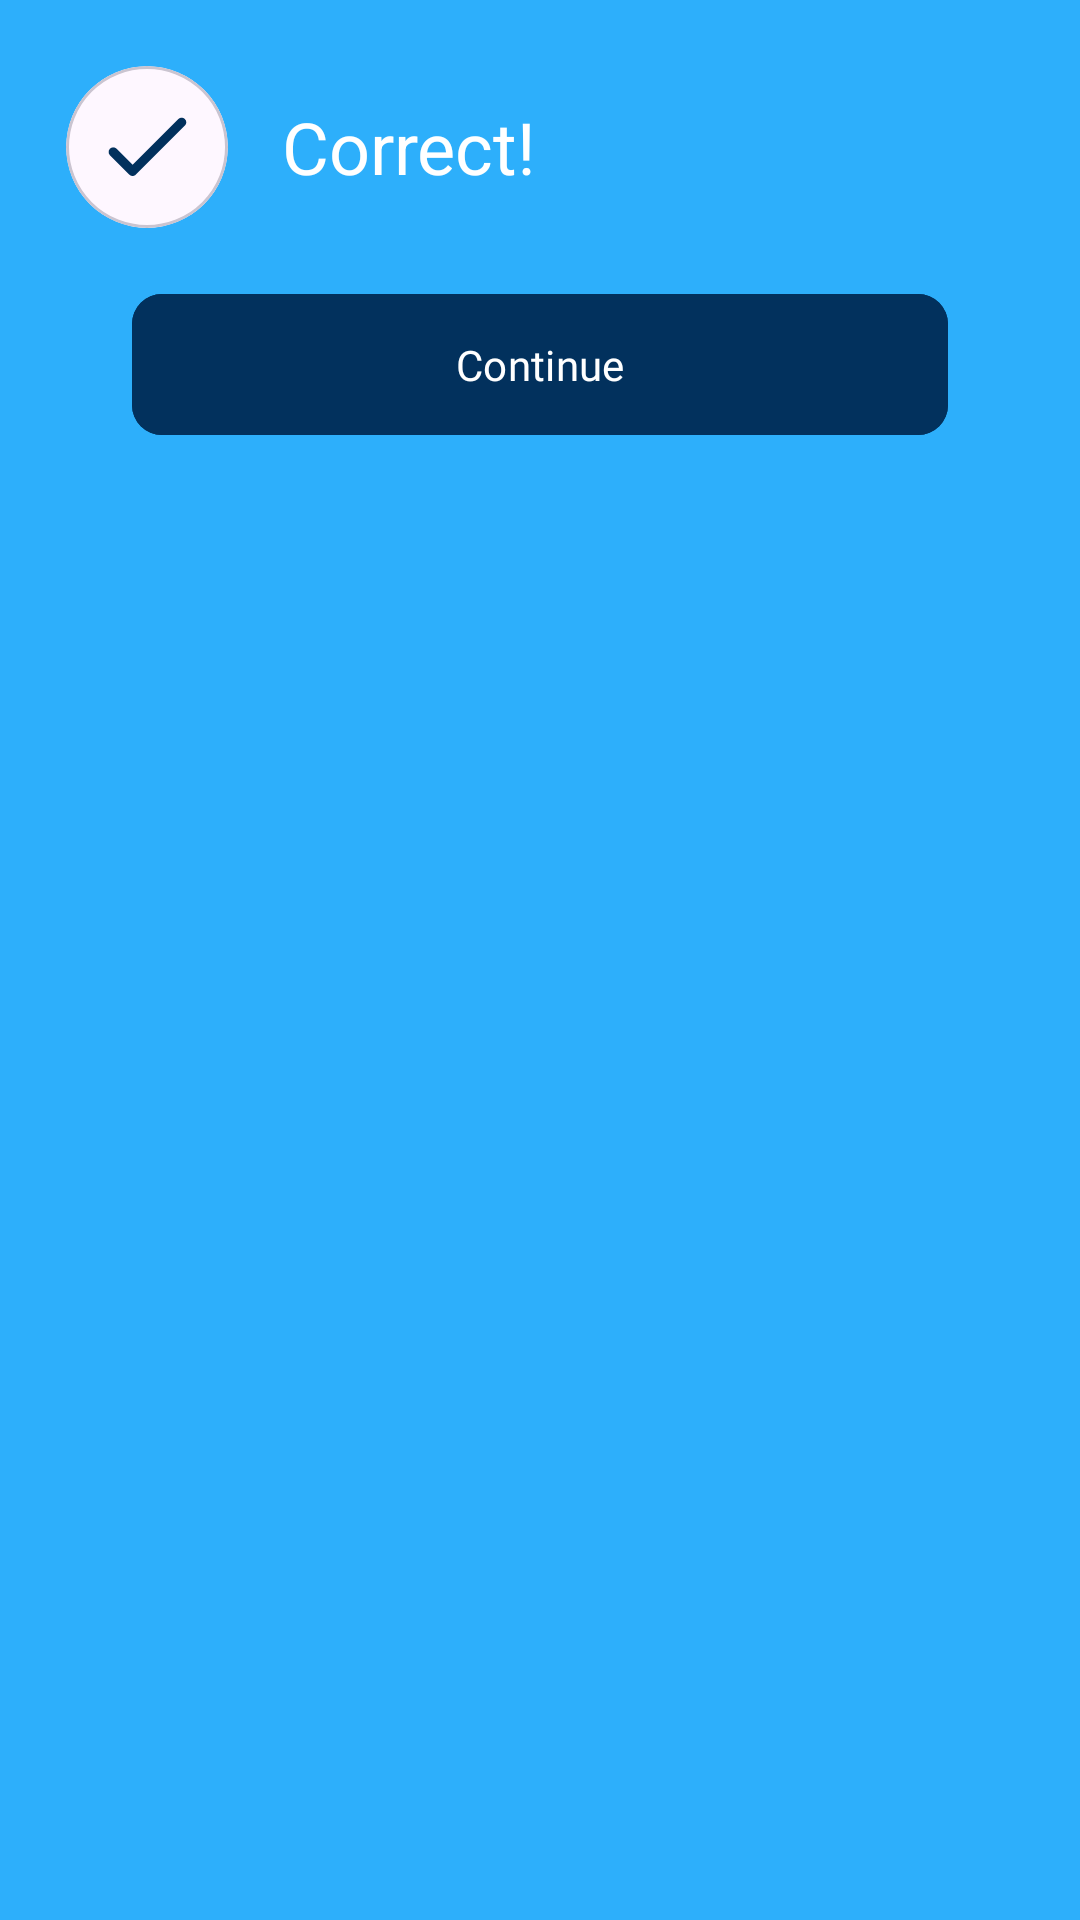

Locate icon controls on the screen. Image size 1080 x 1920, boxes as bbox(x1, y1, x2, y2).
ceklis dua: bbox(108, 117, 187, 176)
